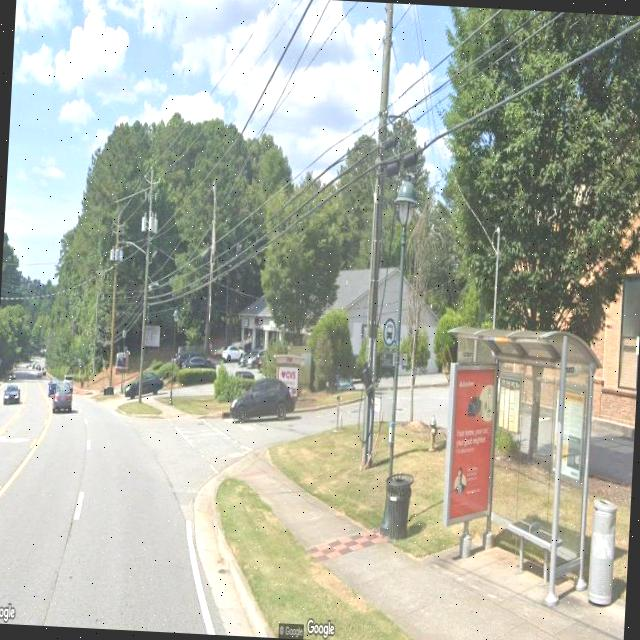seating: (504, 514, 556, 586)
shelter: (434, 322, 602, 606)
trash_can: (586, 499, 618, 608), (385, 472, 414, 542)
